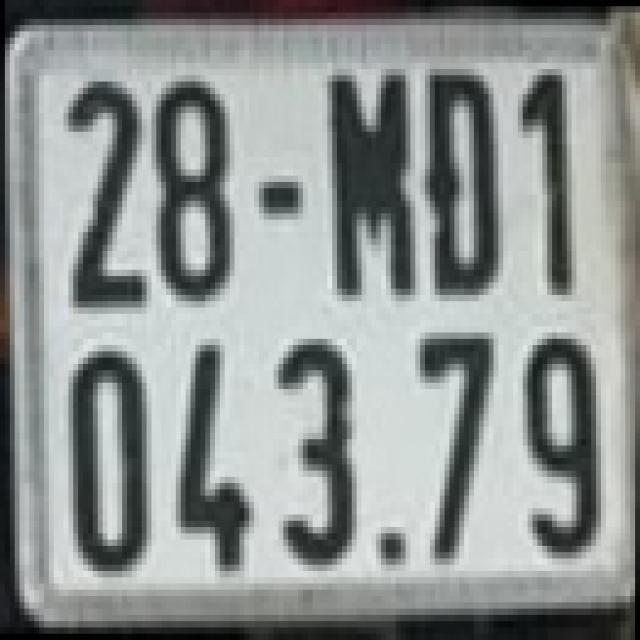0: (68, 345, 152, 571)
1: (518, 75, 576, 295)
2: (64, 75, 152, 308)
3: (274, 339, 356, 565)
4: (176, 339, 254, 571)
7: (420, 332, 494, 558)
8: (152, 75, 235, 301)
9: (523, 332, 601, 558)
D: (425, 75, 498, 295)
M: (323, 63, 420, 295)
